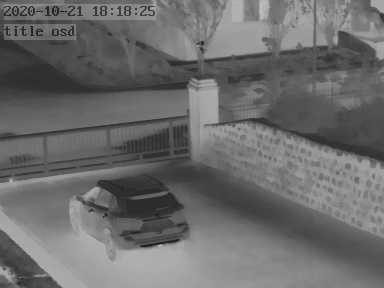vehicle: (66, 175, 189, 258)
